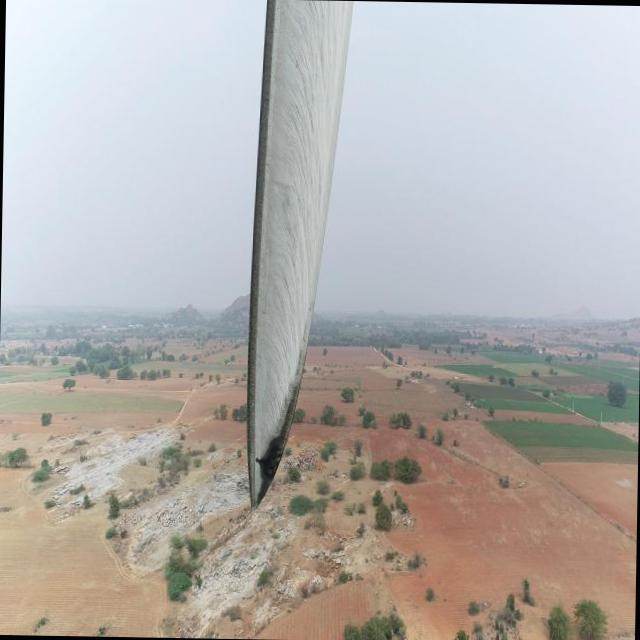Dirt: (245, 0, 352, 509)
Oil LEAKAGE: (259, 388, 302, 507)
Pin Hole: (254, 454, 263, 465)
